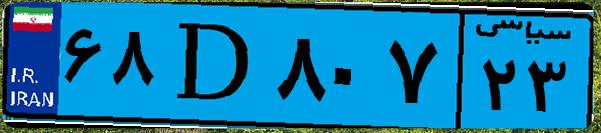0: (330, 28, 385, 110)
2: (475, 38, 525, 113)
3: (525, 38, 570, 115)
6: (57, 26, 110, 100)
7: (385, 28, 445, 110)
8: (270, 28, 330, 110), (110, 28, 158, 98)
D: (158, 12, 270, 120)
